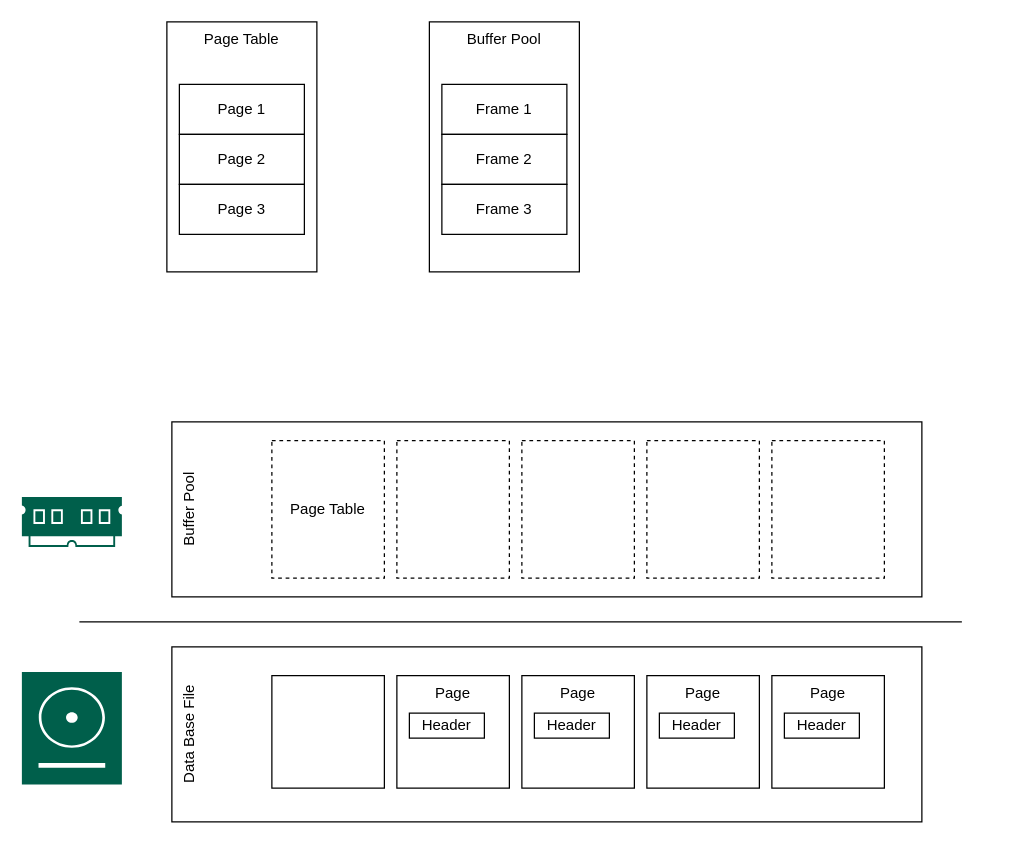
Image size: 1030x844. Some labels were removed from this diagram. Each missing label, with the centre of its shape:
"DISK" belongs at (x=71, y=727).
"Memory" belongs at (x=71, y=521).
"Page Directory" belongs at (x=327, y=731).
